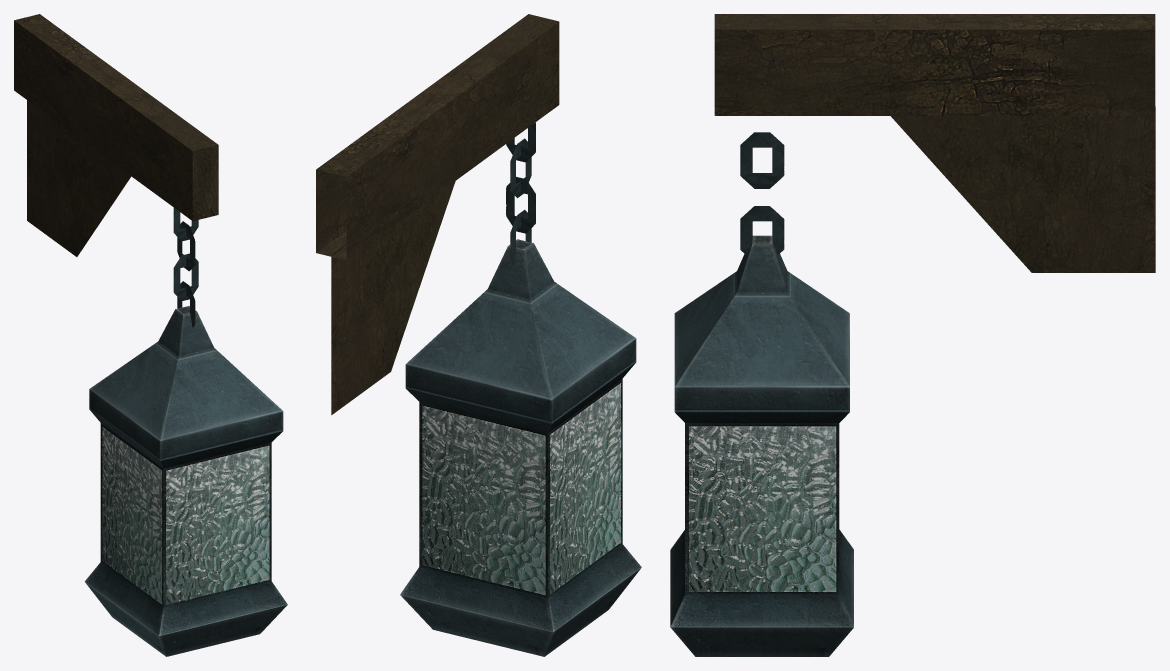
File: Lamp.fbx
The picture shows the model from 3 angles, left to right: view 1: azimuth 30°, elevation 25°; view 2: azimuth 150°, elevation 25°; view 3: azimuth 270°, elevation 25°; orthographic projection. The views are drawn at different scales.
Visible parts, largest first — view 1: polySurface1; view 2: polySurface1; view 3: polySurface1.
Part boxes in pixels (x1=…): polySurface1: x1=14, y1=14, x2=287, y2=656; polySurface1: x1=316, y1=14, x2=641, y2=656; polySurface1: x1=670, y1=14, x2=1155, y2=656.
Bounding box in the file's own units: 12.7 × 46.29 × 33.53.
